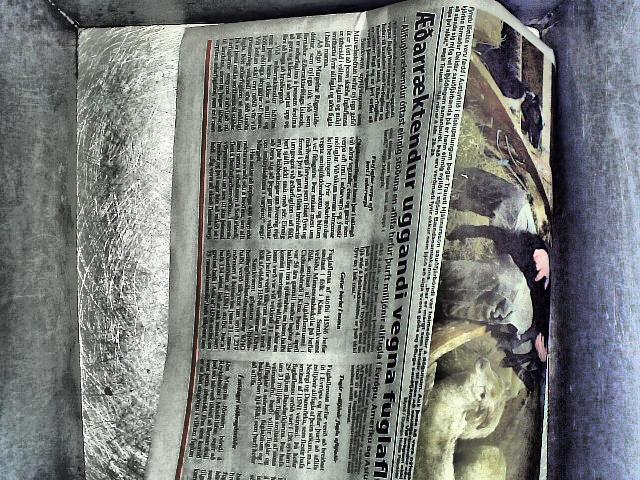Paper: (142, 0, 562, 480)
